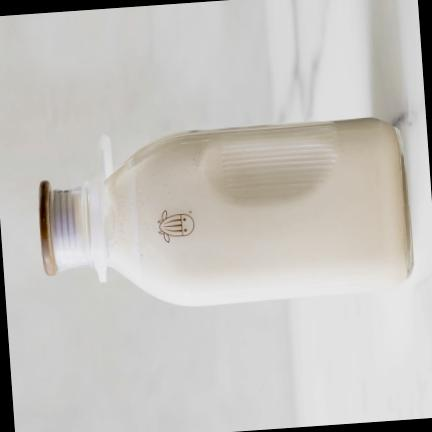container: (39, 117, 413, 305)
fluid: (102, 116, 406, 305)
fluid-surface: (100, 181, 115, 263)
